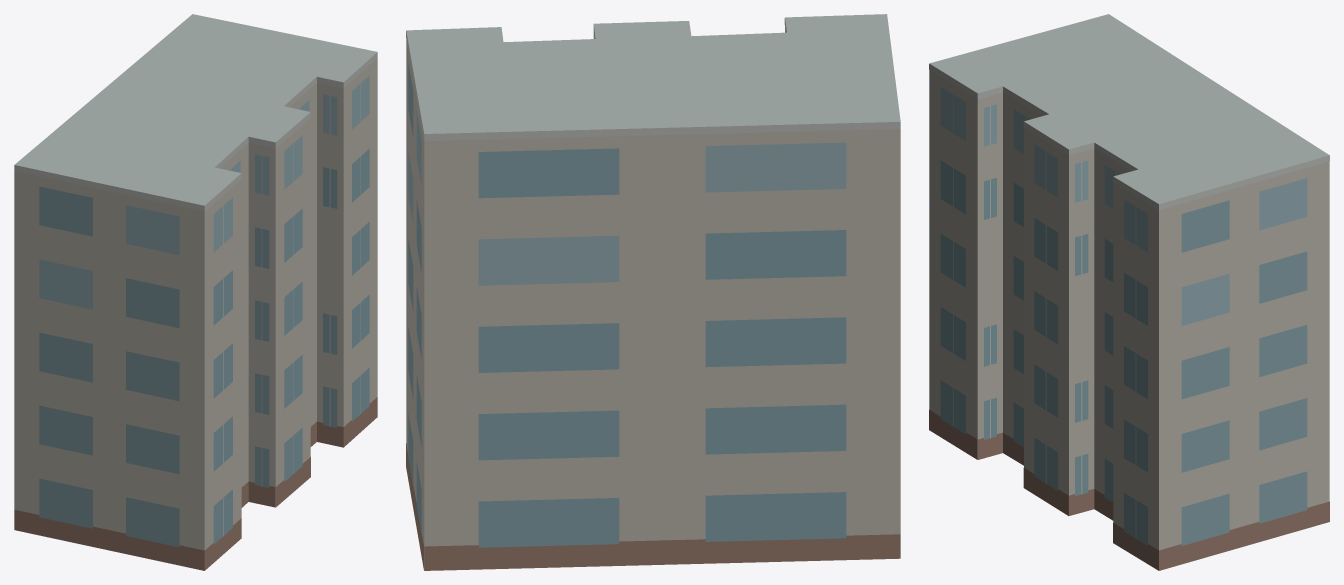
The model's file is survey-upis-32913754.glb.
The picture shows the model from 3 angles, left to right: view 1: azimuth 30°, elevation 25°; view 2: azimuth 150°, elevation 25°; view 3: azimuth 270°, elevation 25°; orthographic projection. The views are drawn at different scales.
Visible parts, largest first — view 1: survey-upis-32913754.tmp; view 2: survey-upis-32913754.tmp; view 3: survey-upis-32913754.tmp.
Boxes of the visible parts, x1,y1,x2,y2 form: survey-upis-32913754.tmp: [14, 14, 377, 570]; survey-upis-32913754.tmp: [406, 14, 900, 570]; survey-upis-32913754.tmp: [929, 14, 1329, 570].
Size of the model in its own units: 16.48 by 14.8 by 14.67.
